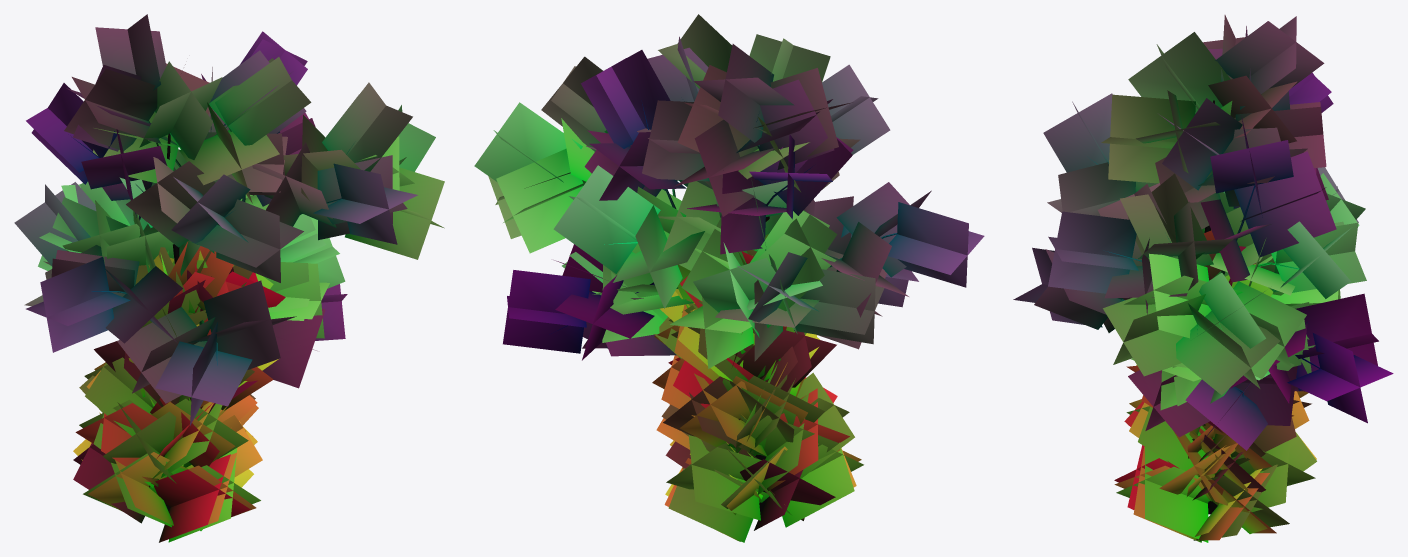
Rendered from M_P3_Tree_13.fbx.
The picture shows the model from 3 angles, left to right: view 1: azimuth 30°, elevation 25°; view 2: azimuth 150°, elevation 25°; view 3: azimuth 270°, elevation 25°; orthographic projection. The views are drawn at different scales.
Parts seen in each view (by area): view 1: Tree_13; view 2: Tree_13; view 3: Tree_13.
Part boxes in pixels (x1,y1,x2,y2): Tree_13: (14, 14, 444, 542); Tree_13: (474, 14, 984, 542); Tree_13: (1013, 15, 1393, 542).
Size of the model in its own units: 539 by 592 by 399.
